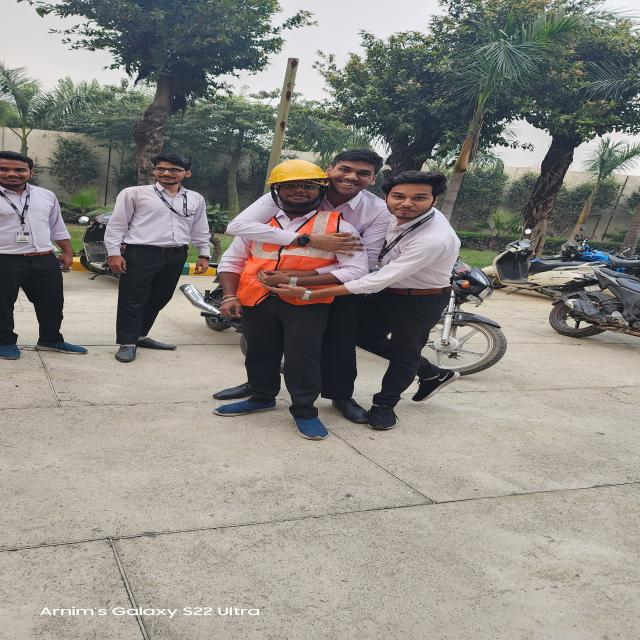safe: (231, 158, 343, 440)
unsafe: (363, 175, 471, 426), (109, 157, 210, 361), (0, 150, 89, 361)
